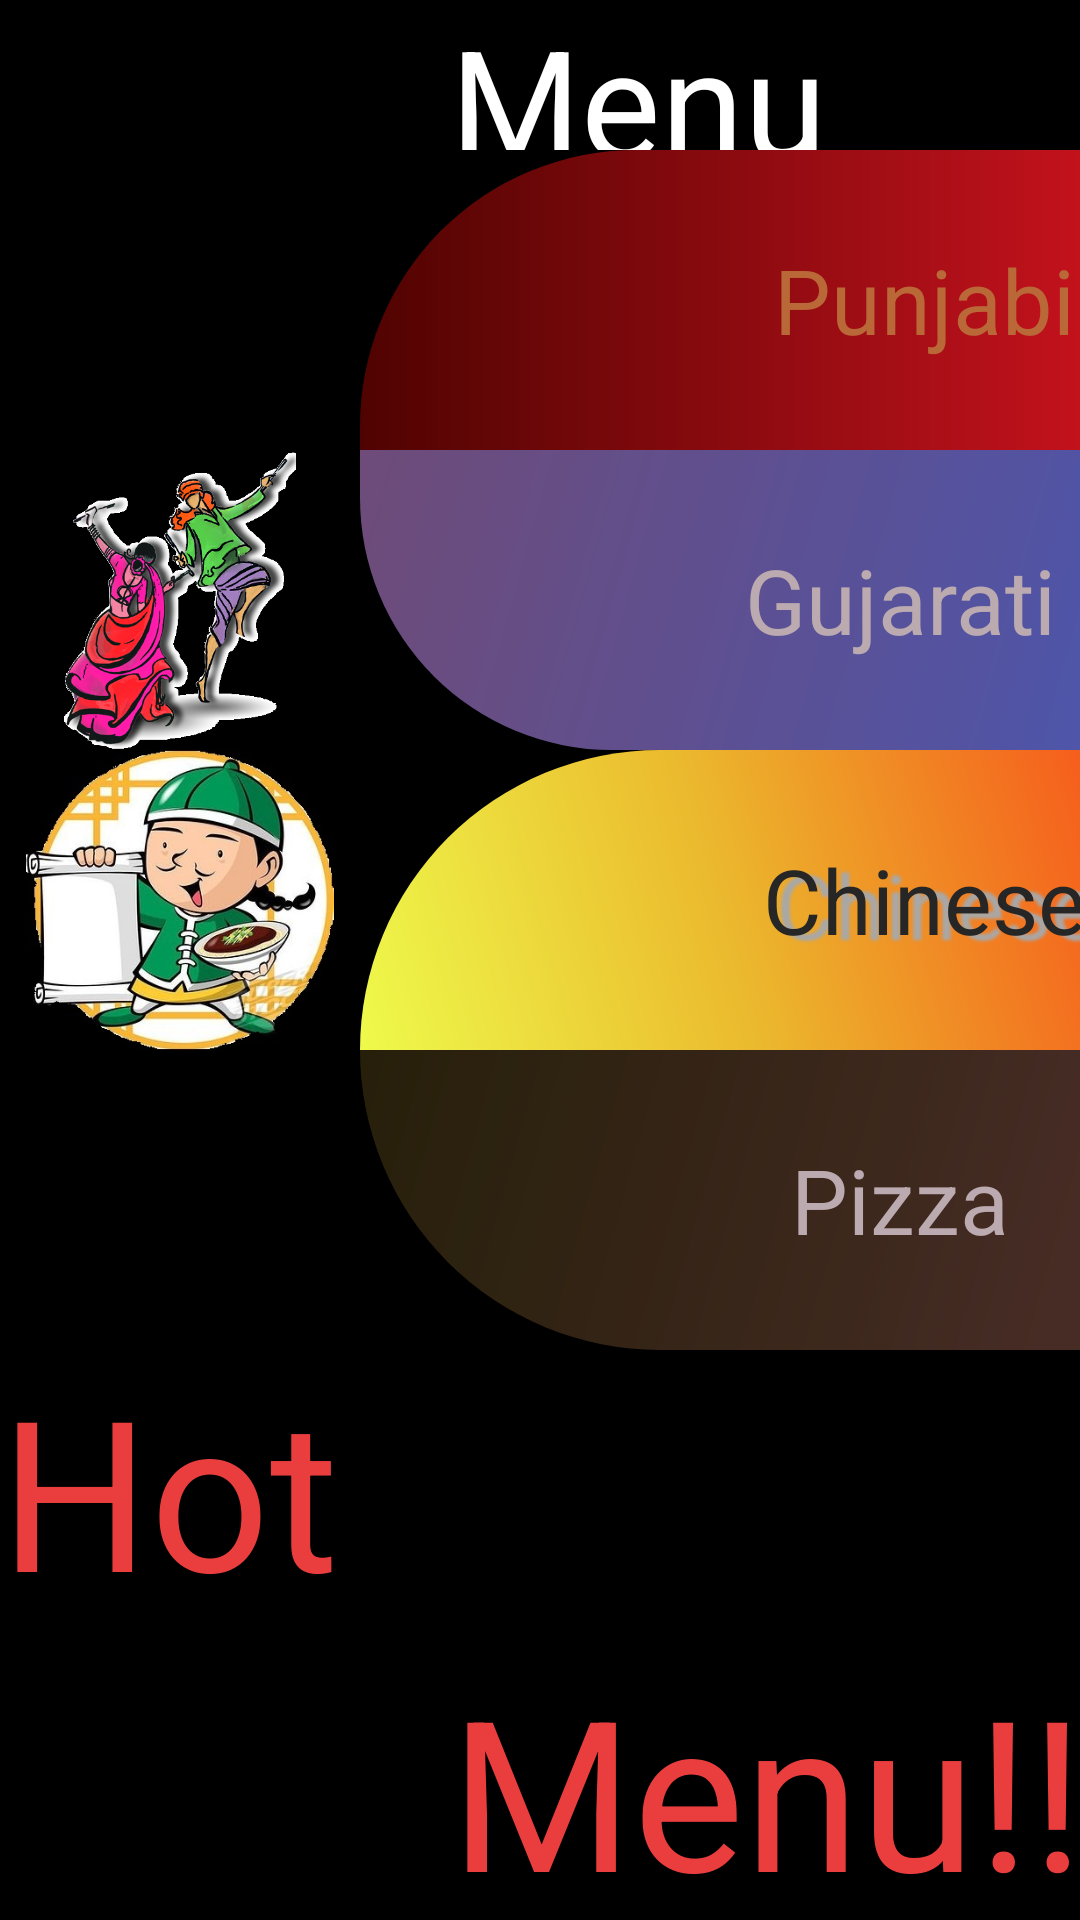

Locate icon controls on the screen. Image size 1080*1920, boxes as [x1, y1, x2, y2].
guj: [64, 452, 296, 749]
